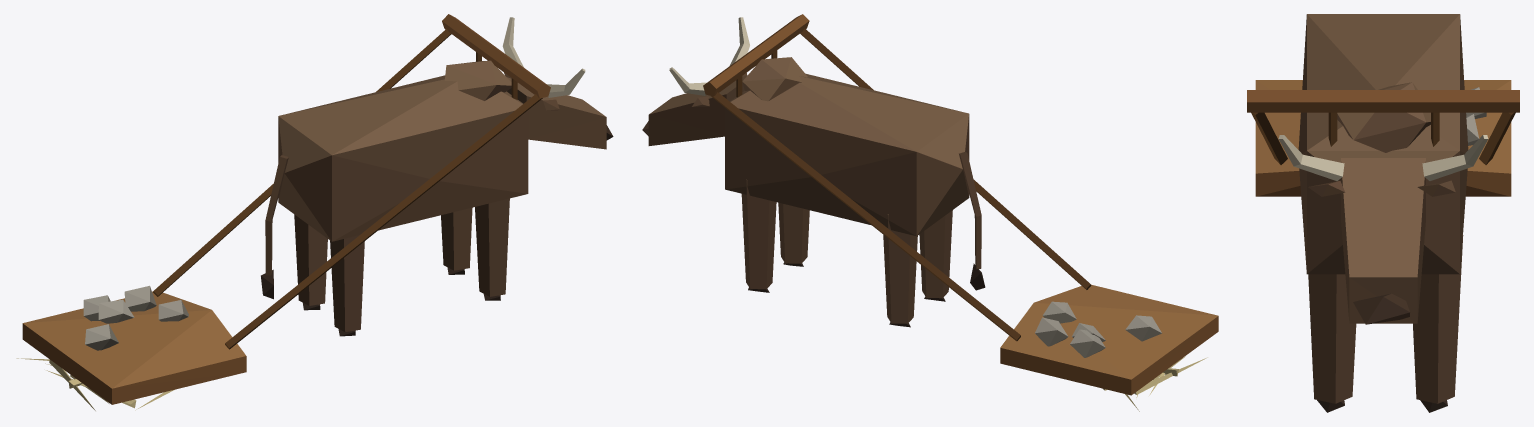
3 renders of one model, left to right at view 1: azimuth 30°, elevation 25°; view 2: azimuth 150°, elevation 25°; view 3: azimuth 270°, elevation 25°, orthographic. The views are drawn at different scales.
Parts seen in each view (by area): view 1: base, head_m, leg0_m, leg2_m, leg3_m, leg1_m, tail_m; view 2: base, head_m, leg1_m, leg3_m, leg2_m, leg0_m, tail_m; view 3: base, head_m, leg1_m, leg0_m.
Part boxes in pixels (x1,y1,x2,y2): base: (16,14,550,410); head_m: (502,17,613,149); leg0_m: (475,198,509,300); leg2_m: (330,235,364,336); leg3_m: (294,214,327,310); leg1_m: (441,207,472,274); tail_m: (261,155,288,299); base: (703,14,1218,411); head_m: (642,17,749,145); leg1_m: (741,179,776,292); leg3_m: (883,214,917,327); leg2_m: (919,210,952,301); leg0_m: (778,202,809,266); tail_m: (959,151,985,290); base: (1247,14,1519,274); head_m: (1278,135,1488,324); leg1_m: (1413,234,1463,412); leg0_m: (1308,274,1356,412).
Bounding box in the file's own units: 1.06 × 0.434 × 0.32.
